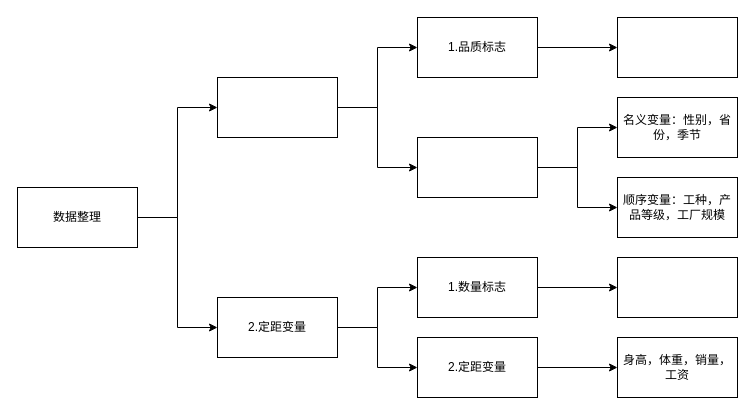
This 755x415 diagram has some shape labels left out. Each missing label, with the centre of its shape:
"1.分组(类)变量" goes at pixel 277 107.
"2.分组(类)变量" goes at pixel 477 167.
"性质或属性特征" goes at pixel 677 47.
"数量特征" goes at pixel 677 287.
